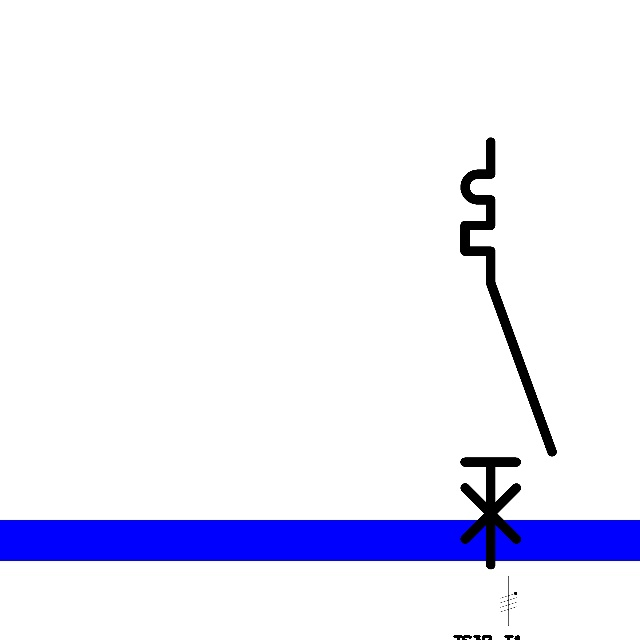interruptor_termomagnetico: (454, 131, 563, 576)
